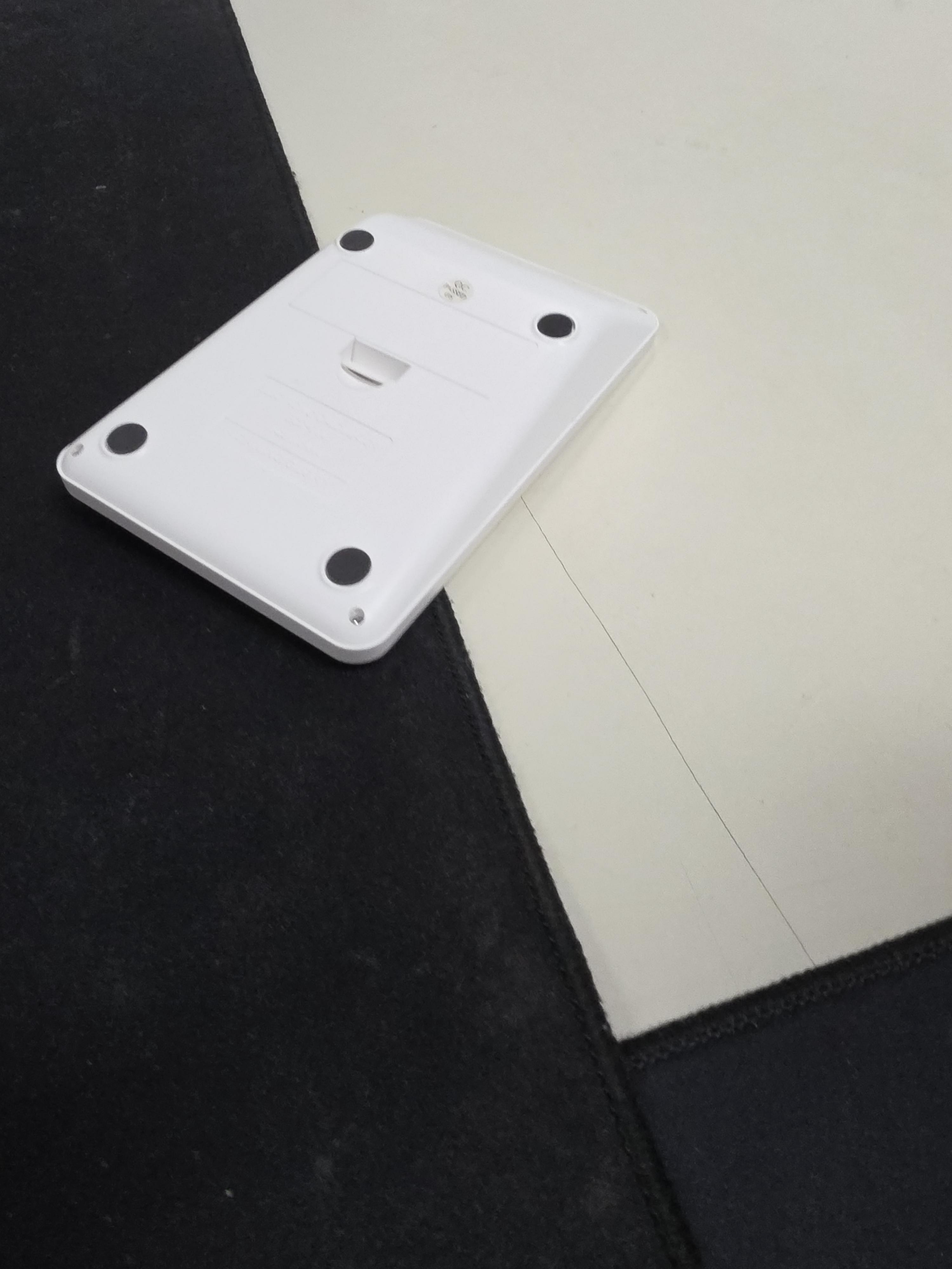calculator: (56, 213, 659, 666)
